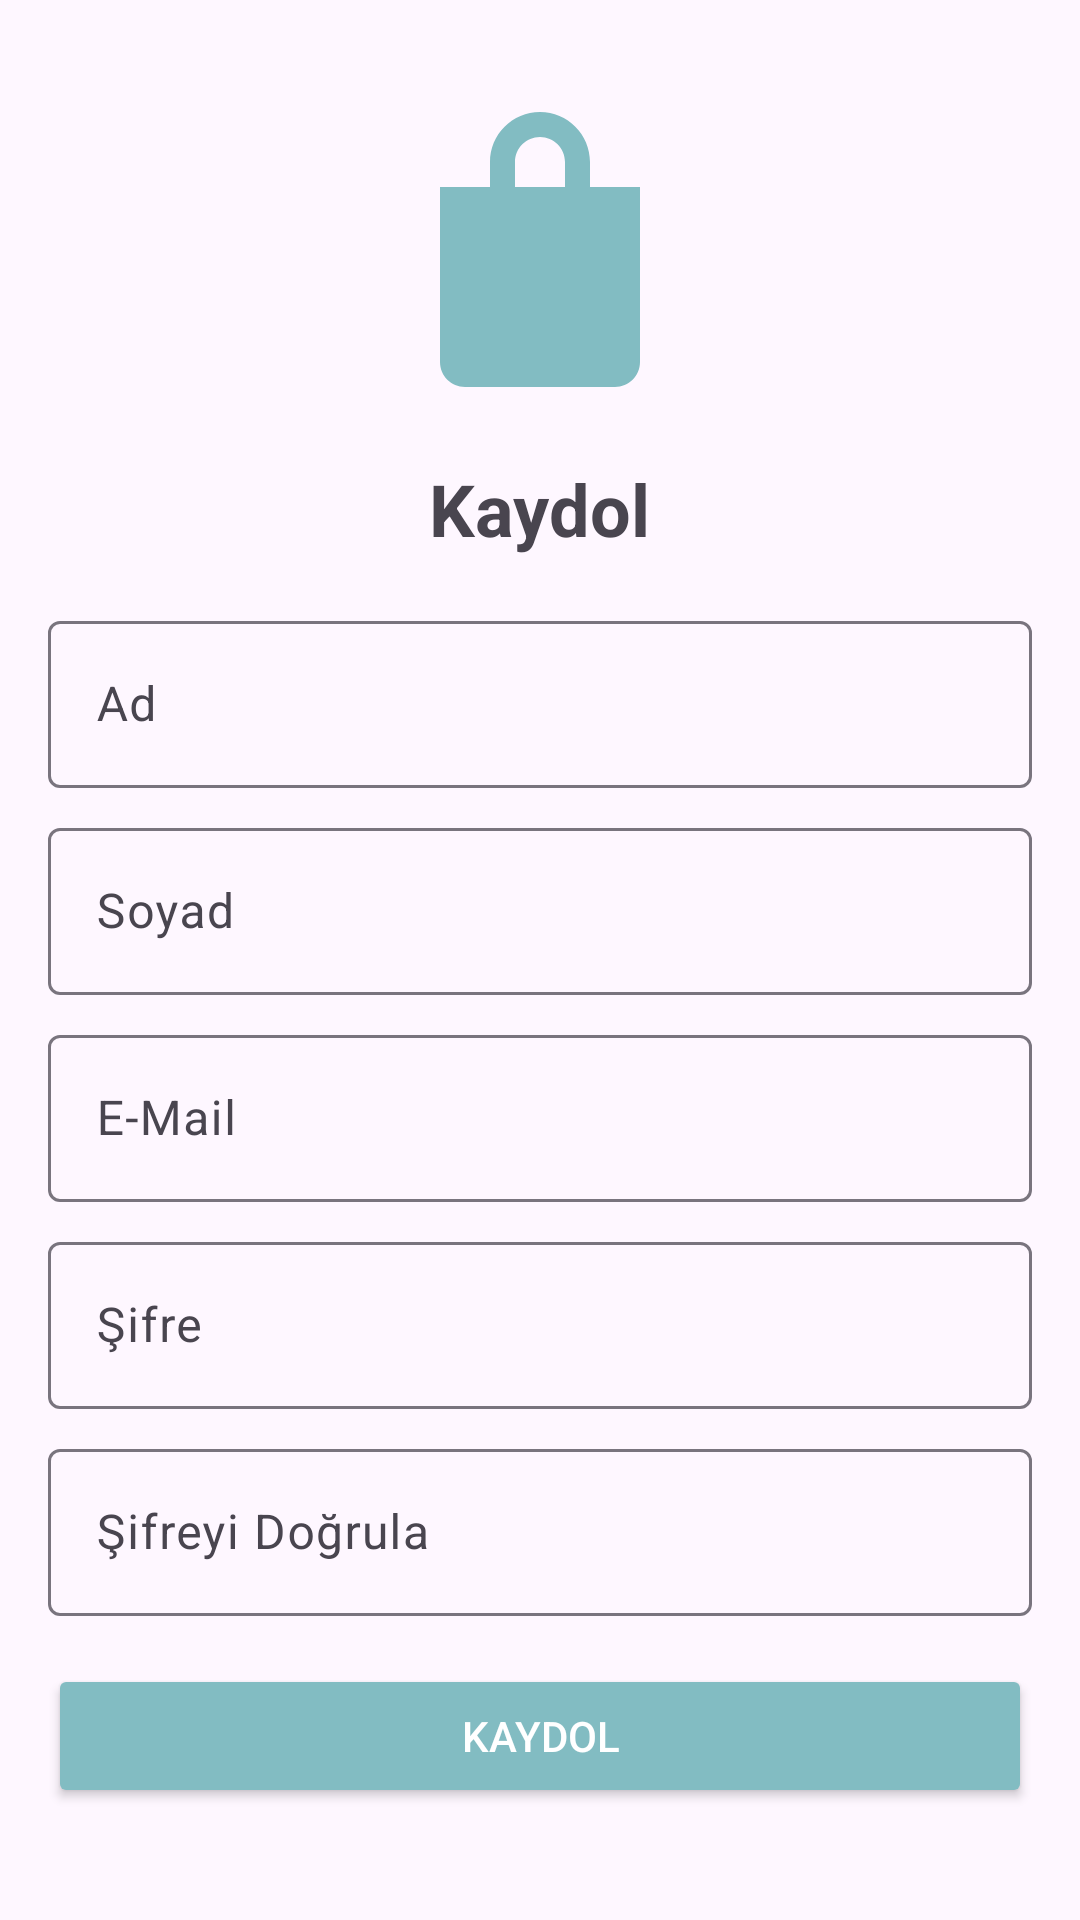

Icon click points for this 1080x1920 phone screenshot, format (x=x, y=y):
Alışveriş Çantası İkonu: (x=540, y=249)
